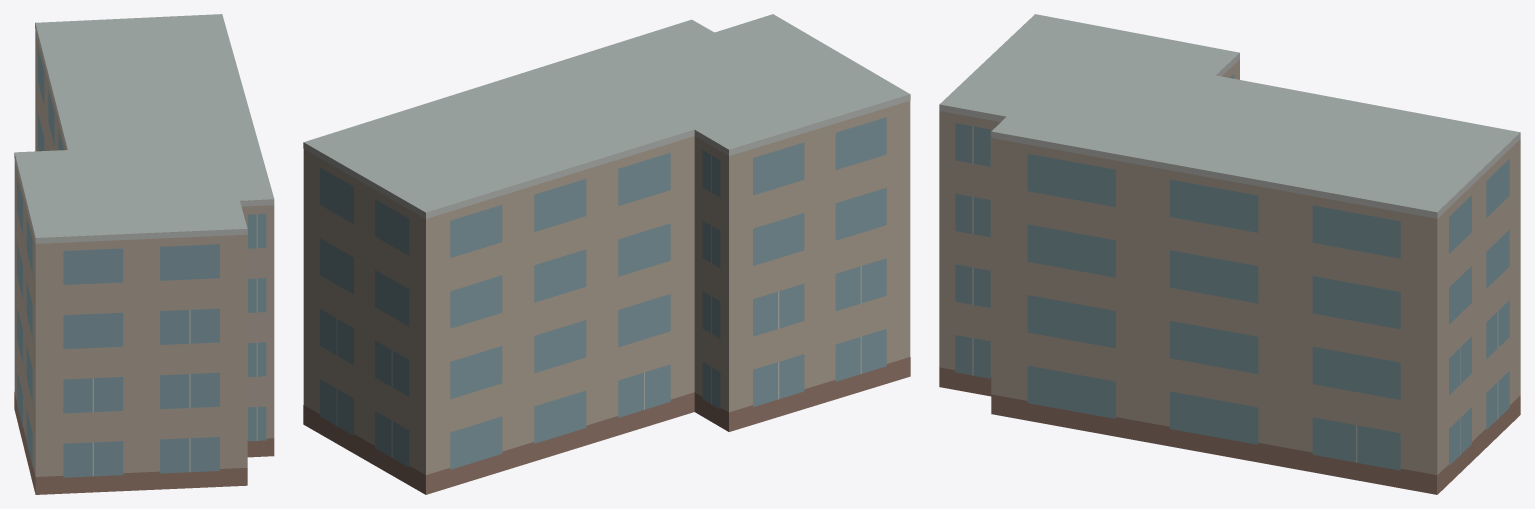
File: survey-upis-32532401.glb
The picture shows the model from 3 angles, left to right: view 1: azimuth 30°, elevation 25°; view 2: azimuth 150°, elevation 25°; view 3: azimuth 270°, elevation 25°; orthographic projection. The views are drawn at different scales.
Visible parts, largest first — view 1: survey-upis-32532401.tmp; view 2: survey-upis-32532401.tmp; view 3: survey-upis-32532401.tmp.
Boxes of the visible parts, <box> form: survey-upis-32532401.tmp: <box>14,14,274,494</box>; survey-upis-32532401.tmp: <box>303,14,910,494</box>; survey-upis-32532401.tmp: <box>939,14,1520,494</box>.
Bounding box in the file's own units: 16.04 × 10.65 × 19.86.
